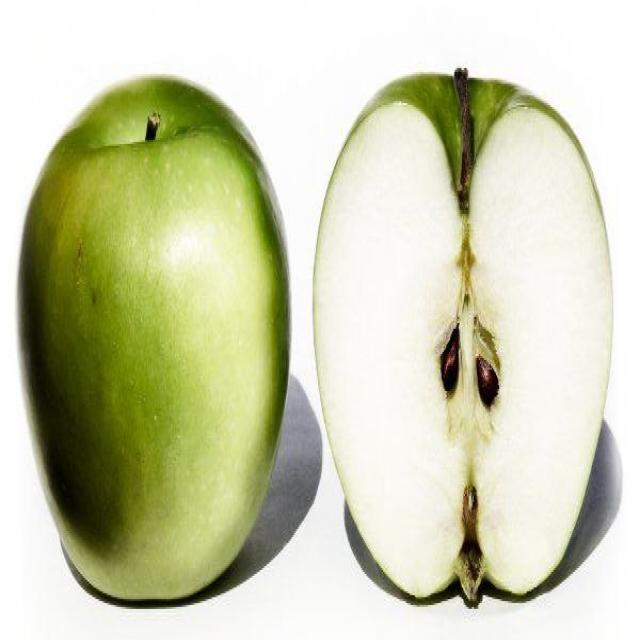Fresh Apple: (18, 72, 290, 610)
Rotten: (308, 65, 622, 600)
